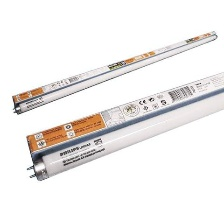book: (21, 64, 223, 164), (10, 28, 220, 107)
light_bulb: (24, 82, 224, 184), (9, 32, 220, 117)
